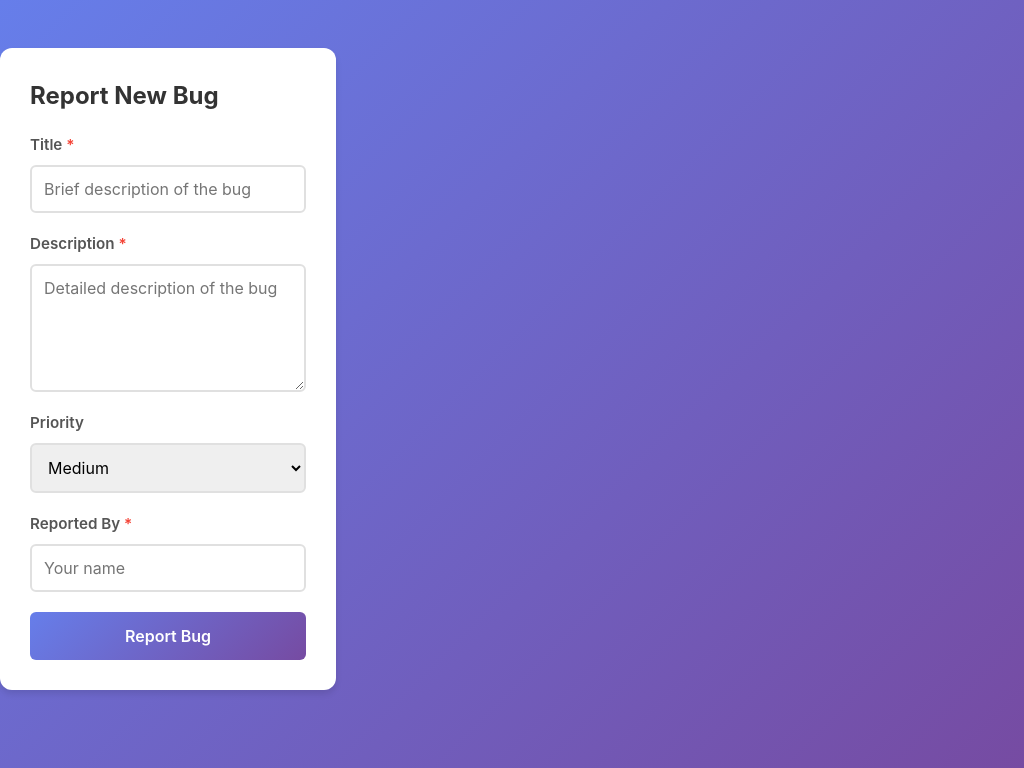
Test: BugForm Component › disables submit button while submitting
This screenshot has width=1024, height=768.
Type "Test" into the field with test id "title-input".
click(168, 189); type("Test")  # box 30,165 -> 306,213
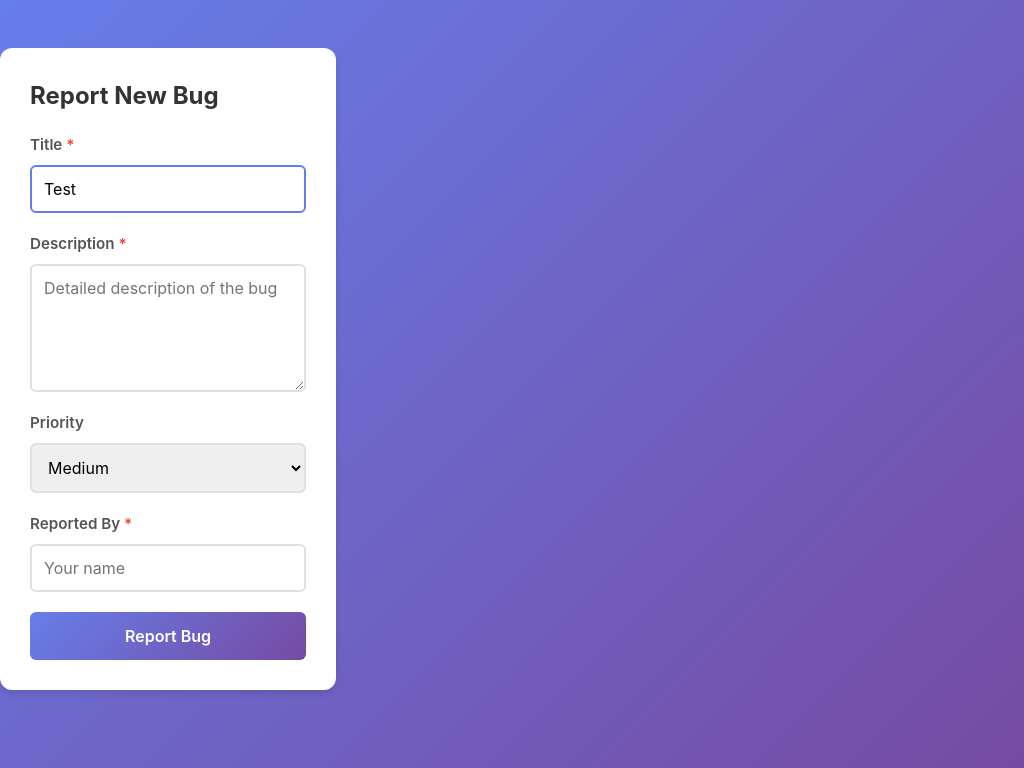
Type "Description" into the text box with test id "description-input".
click(168, 328); type("Description")  # box 30,264 -> 306,392
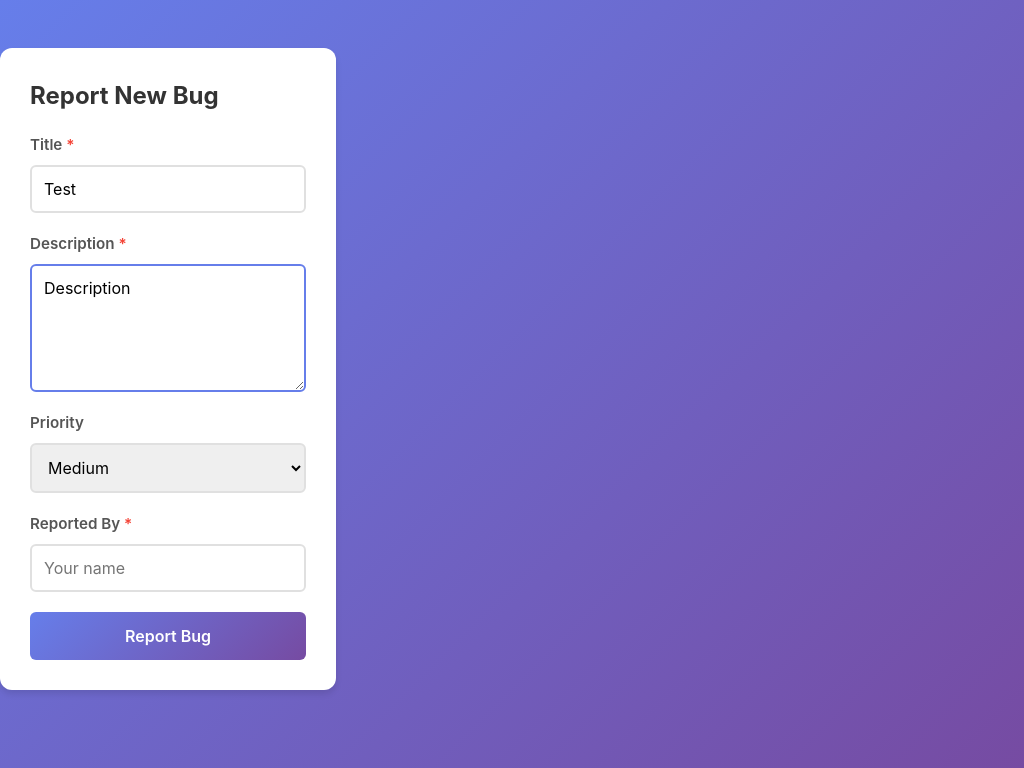
Type "Tester" into the field with test id "reporter-input".
click(168, 568); type("Tester")  # box 30,544 -> 306,592
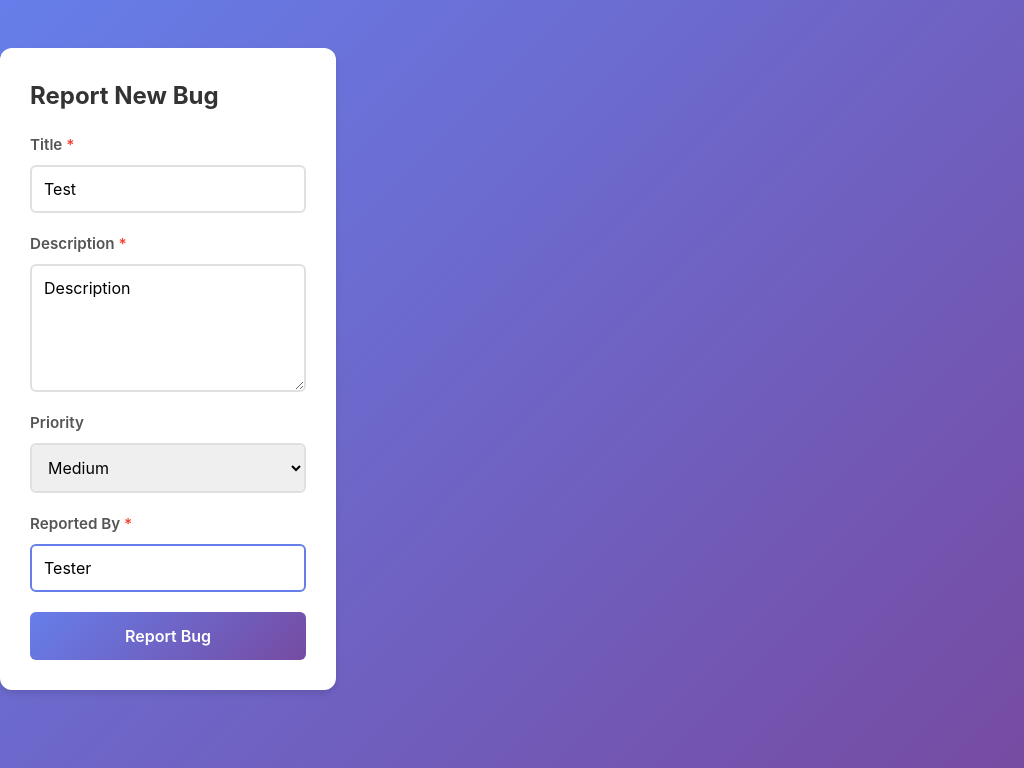
Click the button.
click(168, 636)  # box 30,612 -> 306,660
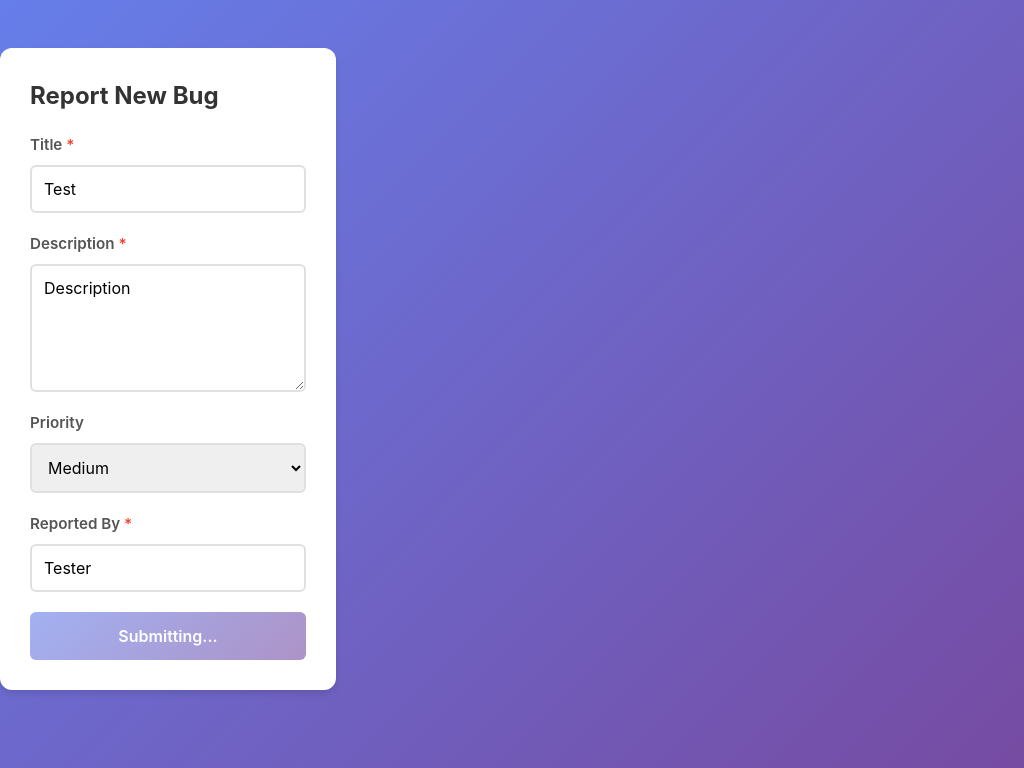
Check: the button is disabled, box 30,612 -> 306,660
Check: the button shows "Submitting", box 30,612 -> 306,660
